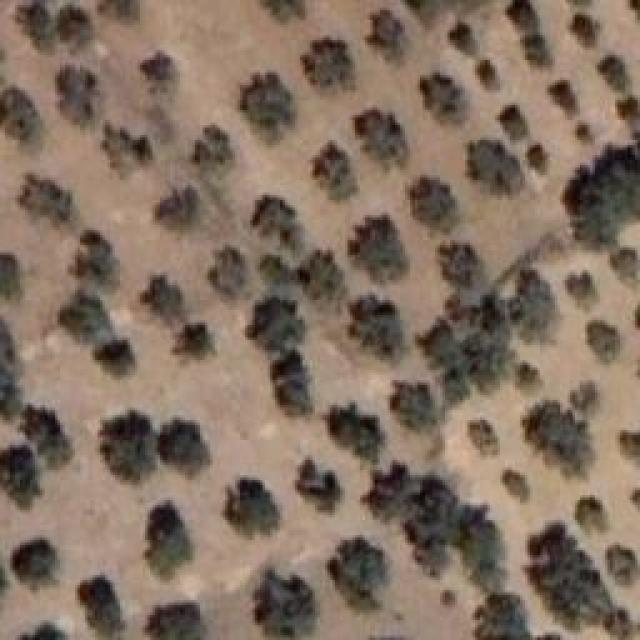Tree: (405, 477, 508, 592), (418, 294, 513, 404), (527, 523, 615, 629), (565, 145, 640, 248), (60, 290, 136, 376), (523, 400, 594, 477), (328, 538, 387, 611), (348, 215, 409, 283), (100, 410, 156, 483), (255, 570, 315, 636), (250, 195, 313, 256), (145, 503, 193, 581), (510, 270, 558, 343), (350, 295, 405, 358), (245, 298, 305, 355), (20, 405, 73, 469), (225, 477, 281, 537), (467, 140, 525, 195), (162, 410, 208, 477), (355, 110, 408, 166), (240, 72, 294, 126), (363, 463, 413, 521), (78, 575, 124, 638), (408, 177, 459, 232), (270, 350, 313, 415), (475, 592, 533, 640), (313, 142, 359, 202), (333, 402, 379, 462), (298, 250, 350, 303), (300, 37, 354, 87), (0, 445, 41, 510), (55, 65, 98, 125), (20, 175, 73, 223), (295, 457, 341, 512), (390, 382, 439, 432), (73, 230, 116, 286), (103, 123, 154, 170), (13, 538, 59, 590), (0, 87, 42, 143), (140, 275, 185, 326), (0, 317, 22, 418), (145, 602, 203, 640), (440, 243, 486, 289), (368, 10, 408, 62), (424, 73, 464, 125), (15, 0, 55, 51), (208, 245, 247, 297), (155, 185, 200, 228), (53, 2, 89, 48), (505, 0, 551, 34), (193, 128, 233, 165), (173, 322, 214, 357), (588, 320, 622, 362), (568, 273, 599, 311), (610, 548, 640, 586), (498, 105, 529, 141), (405, 0, 447, 26), (570, 380, 600, 416), (598, 55, 627, 92), (548, 80, 577, 117), (570, 12, 600, 47), (0, 252, 22, 299), (140, 52, 174, 82), (260, 0, 305, 22), (610, 248, 638, 281), (450, 22, 476, 57), (470, 423, 497, 456), (578, 497, 603, 532), (100, 0, 139, 22), (617, 95, 640, 132), (515, 364, 541, 394), (505, 470, 527, 502), (475, 60, 496, 91), (530, 145, 550, 175), (622, 430, 640, 460), (575, 123, 594, 145)
